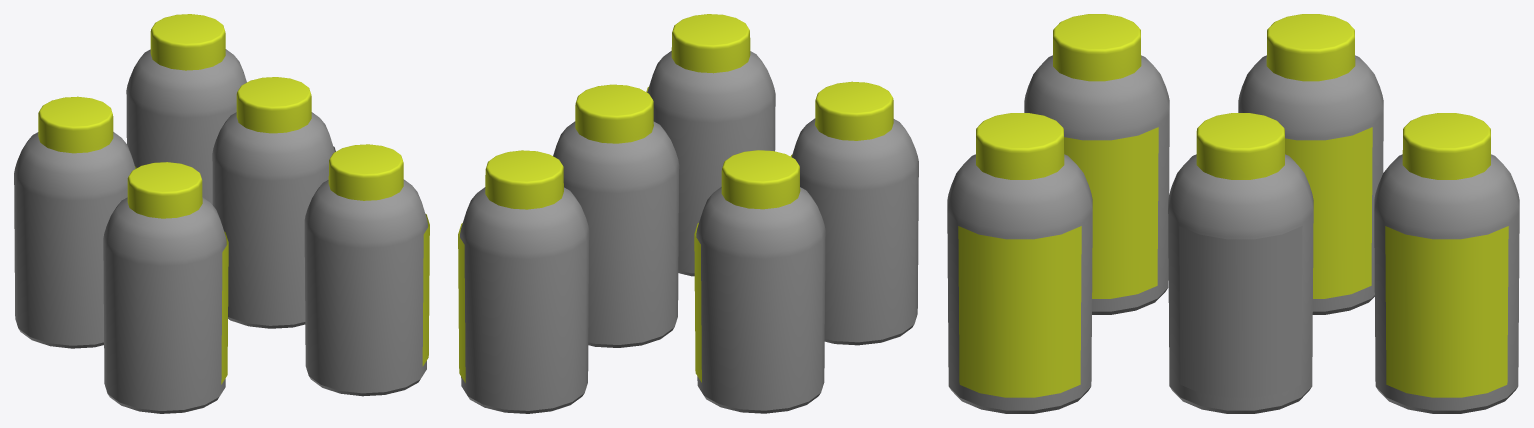
The model's file is CB_Asset_01.FBX.
3 views of the same model, side by side, from view 1: azimuth 30°, elevation 25°; view 2: azimuth 150°, elevation 25°; view 3: azimuth 270°, elevation 25° (orthographic). The views are drawn at different scales.
Parts seen in each view (by area): view 1: C_Bottle_04, C_Bottle_00, C_Bottle_03, C_Bottle_01, C_Bottle_02; view 2: C_Bottle_03, C_Bottle_02, C_Bottle_04, C_Bottle_01, C_Bottle_00; view 3: C_Bottle_01, C_Bottle_00, C_Bottle_02, C_Bottle_04, C_Bottle_03.
Part boxes in pixels (x1,y1,x2,y2): C_Bottle_04: (103,162,228,413); C_Bottle_00: (304,144,429,396); C_Bottle_03: (14,96,136,348); C_Bottle_01: (212,77,335,328); C_Bottle_02: (126,14,246,204); C_Bottle_03: (694,150,825,413); C_Bottle_02: (458,150,589,413); C_Bottle_04: (790,81,918,345); C_Bottle_01: (553,84,679,347); C_Bottle_00: (646,14,775,276); C_Bottle_01: (1168,113,1313,413); C_Bottle_00: (947,113,1092,413); C_Bottle_02: (1374,113,1519,413); C_Bottle_04: (1024,14,1169,314); C_Bottle_03: (1238,14,1383,314).
Size of the model in its own units: 0.1676 by 0.1231 by 0.251.
